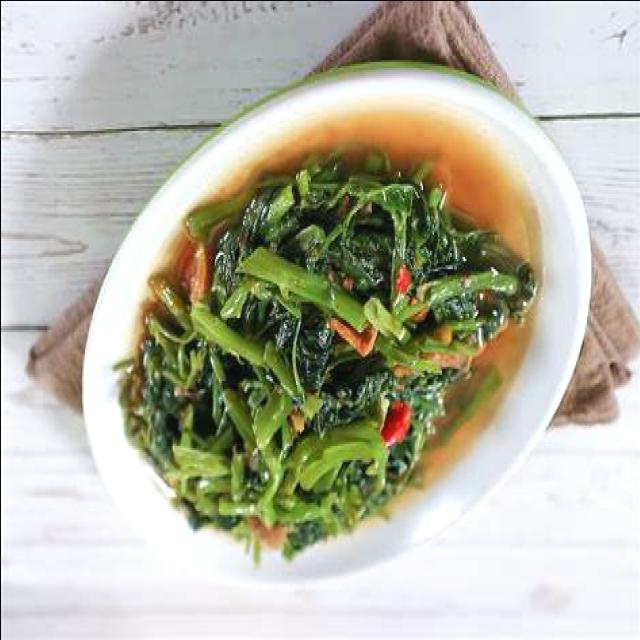tumis kangkung: (106, 142, 543, 565)
